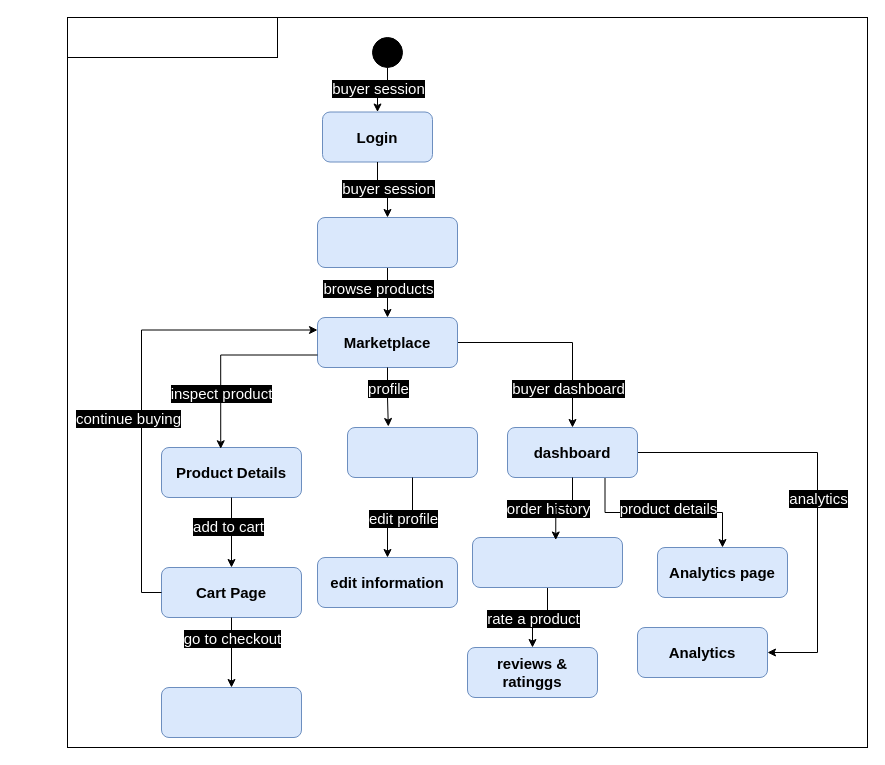
This 885x765 diagram has some shape labels left out. The shapes that lost their labels are listed below. From the top down, each one's centre as x and y in pixels, then its label:
At point 172,37: "Navigation Diagram : Buyer".
At point 387,242: "Home page".
At point 412,452: "Profile Page".
At point 547,562: "order history & invoices".
At point 231,712: "Checkout Page".
